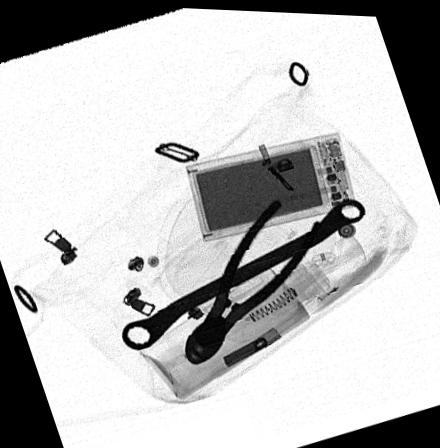Pliers: (182, 197, 324, 366)
Powerbank: (185, 128, 357, 242)
Wrench: (121, 194, 364, 350)
